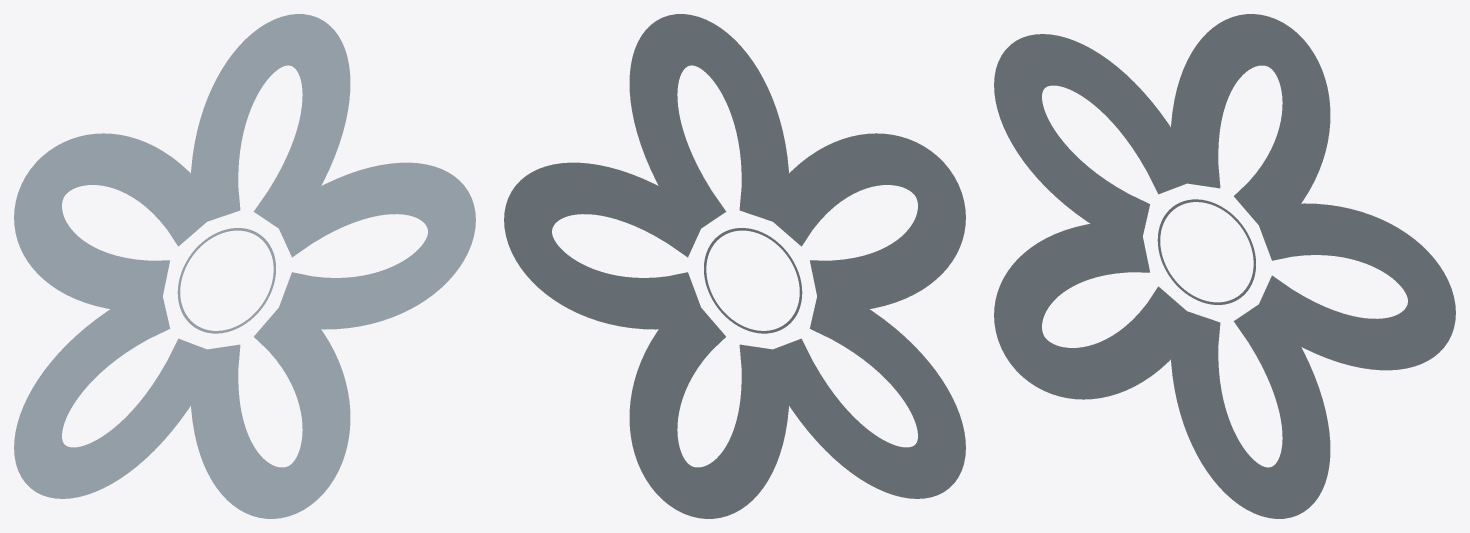
File: HuTao_BloodBlossomCardState_Overall_AuthoredPlumMark.fbx
3 views of the same model, side by side, from view 1: azimuth 30°, elevation 25°; view 2: azimuth 150°, elevation 25°; view 3: azimuth 330°, elevation 25° (orthographic).
Parts seen in each view (by area): view 1: PART_AuthoredBloodPlumPetal_0.001, PART_AuthoredBloodPlumPetal_3.001, PART_AuthoredBloodPlumPetal_1.001, PART_AuthoredBloodPlumPetal_2.001, PART_AuthoredBloodPlumPetal_4.001, PART_PlumCenter.001; view 2: PART_AuthoredBloodPlumPetal_3.001, PART_AuthoredBloodPlumPetal_0.001, PART_AuthoredBloodPlumPetal_2.001, PART_AuthoredBloodPlumPetal_1.001, PART_AuthoredBloodPlumPetal_4.001, PART_PlumCenter.001; view 3: PART_AuthoredBloodPlumPetal_1.001, PART_AuthoredBloodPlumPetal_3.001, PART_AuthoredBloodPlumPetal_4.001, PART_AuthoredBloodPlumPetal_2.001, PART_AuthoredBloodPlumPetal_0.001, PART_PlumCenter.001.
Boxes of the visible parts, box(x1,y1,x2,y2) form: PART_AuthoredBloodPlumPetal_0.001: box(273, 162, 475, 329); PART_AuthoredBloodPlumPetal_3.001: box(14, 282, 217, 498); PART_AuthoredBloodPlumPetal_1.001: box(190, 14, 350, 228); PART_AuthoredBloodPlumPetal_2.001: box(14, 133, 218, 311); PART_AuthoredBloodPlumPetal_4.001: box(190, 295, 350, 518); PART_PlumCenter.001: box(177, 228, 275, 333); PART_AuthoredBloodPlumPetal_3.001: box(760, 291, 965, 498); PART_AuthoredBloodPlumPetal_0.001: box(504, 162, 706, 329); PART_AuthoredBloodPlumPetal_2.001: box(761, 133, 965, 311); PART_AuthoredBloodPlumPetal_1.001: box(629, 14, 789, 235); PART_AuthoredBloodPlumPetal_4.001: box(629, 295, 788, 518); PART_PlumCenter.001: box(704, 228, 802, 333); PART_AuthoredBloodPlumPetal_1.001: box(1170, 14, 1330, 237); PART_AuthoredBloodPlumPetal_3.001: box(994, 221, 1198, 399); PART_AuthoredBloodPlumPetal_4.001: box(1170, 297, 1330, 518); PART_AuthoredBloodPlumPetal_2.001: box(994, 34, 1199, 250); PART_AuthoredBloodPlumPetal_0.001: box(1253, 203, 1455, 370); PART_PlumCenter.001: box(1157, 199, 1255, 304).
Size of the model in its own units: 125 by 130 by 2.12e-05.
